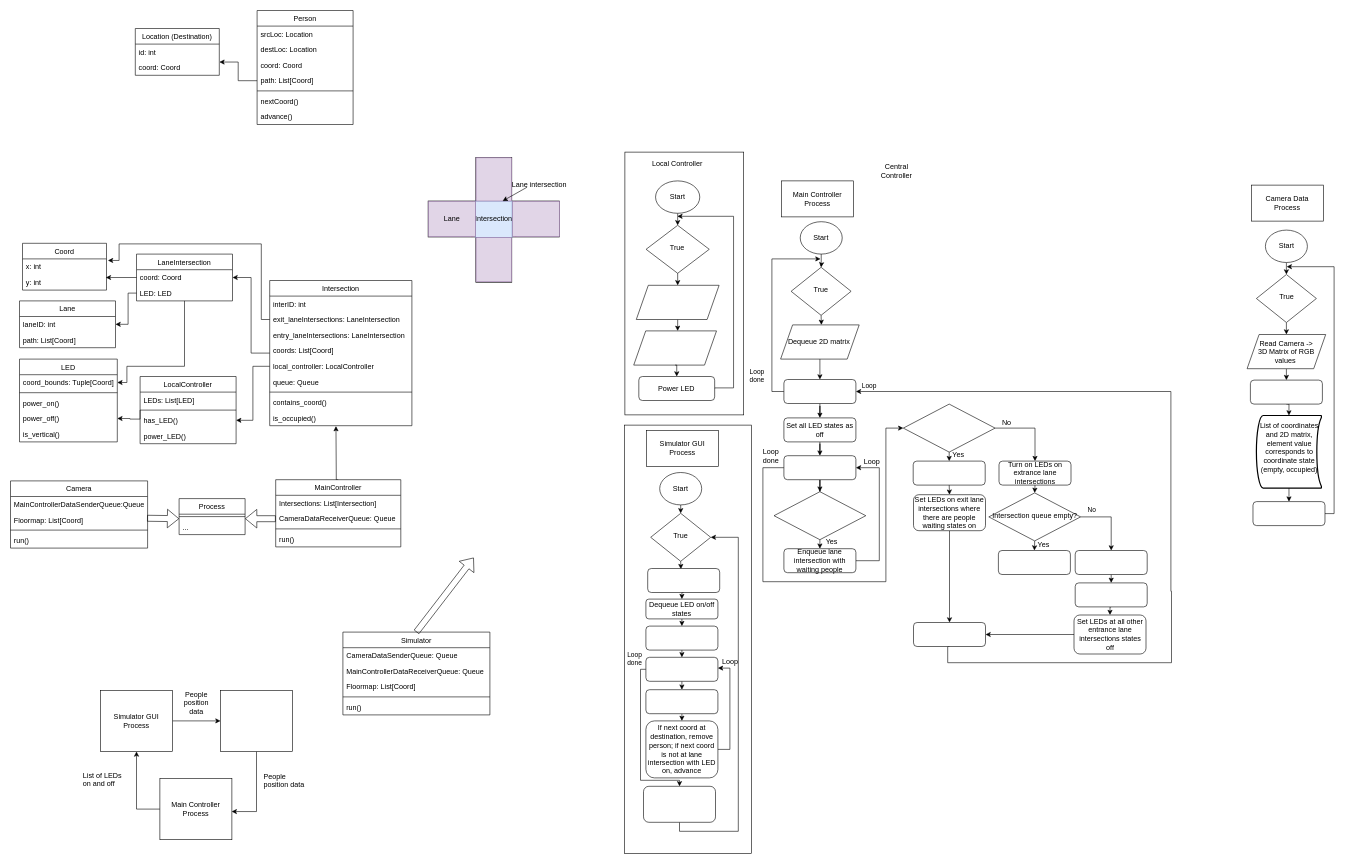
Image size: 1349x864. Some labels were removed from this diagram. The centre of each missing label's shape, as x and y in pixels:
"Calculate next coord" goes at point (681, 701).
"Dequeue lane intersection with waiting people" goes at point (1111, 562).
"Detect people and obtain list of coordinates" goes at point (1286, 392).
"Draw grid, lane, people, and LED" goes at point (681, 638).
"Dummy Camera Process" goes at point (256, 721).
"Enqueue list of coordinates and 2D matrix" goes at point (1288, 513).
"Enqueue people coordinates" goes at point (683, 580).
"For each intersection" goes at point (819, 391).
"For each lane intersection" goes at point (819, 467).
"For each person" goes at point (681, 669).
"Generate new person with random entrance and destination with chance." goes at point (679, 804).
"Intersection contains person?" goes at point (949, 428).
"Is entrance lane intersection and have people waiting?" goes at point (819, 515).
"Obtain LED location and color" goes at point (675, 347).
"Read protocol" goes at point (677, 302).
"Set LEDs on exit lane intersections off" goes at point (1034, 562).
"Set LEDs on extrance lane intersections states on" goes at point (949, 472).
"Turn LED at this entrance lane intersection state off" goes at point (1111, 594).
"Turn on/off LEDs based on set LED states" goes at point (949, 634).
